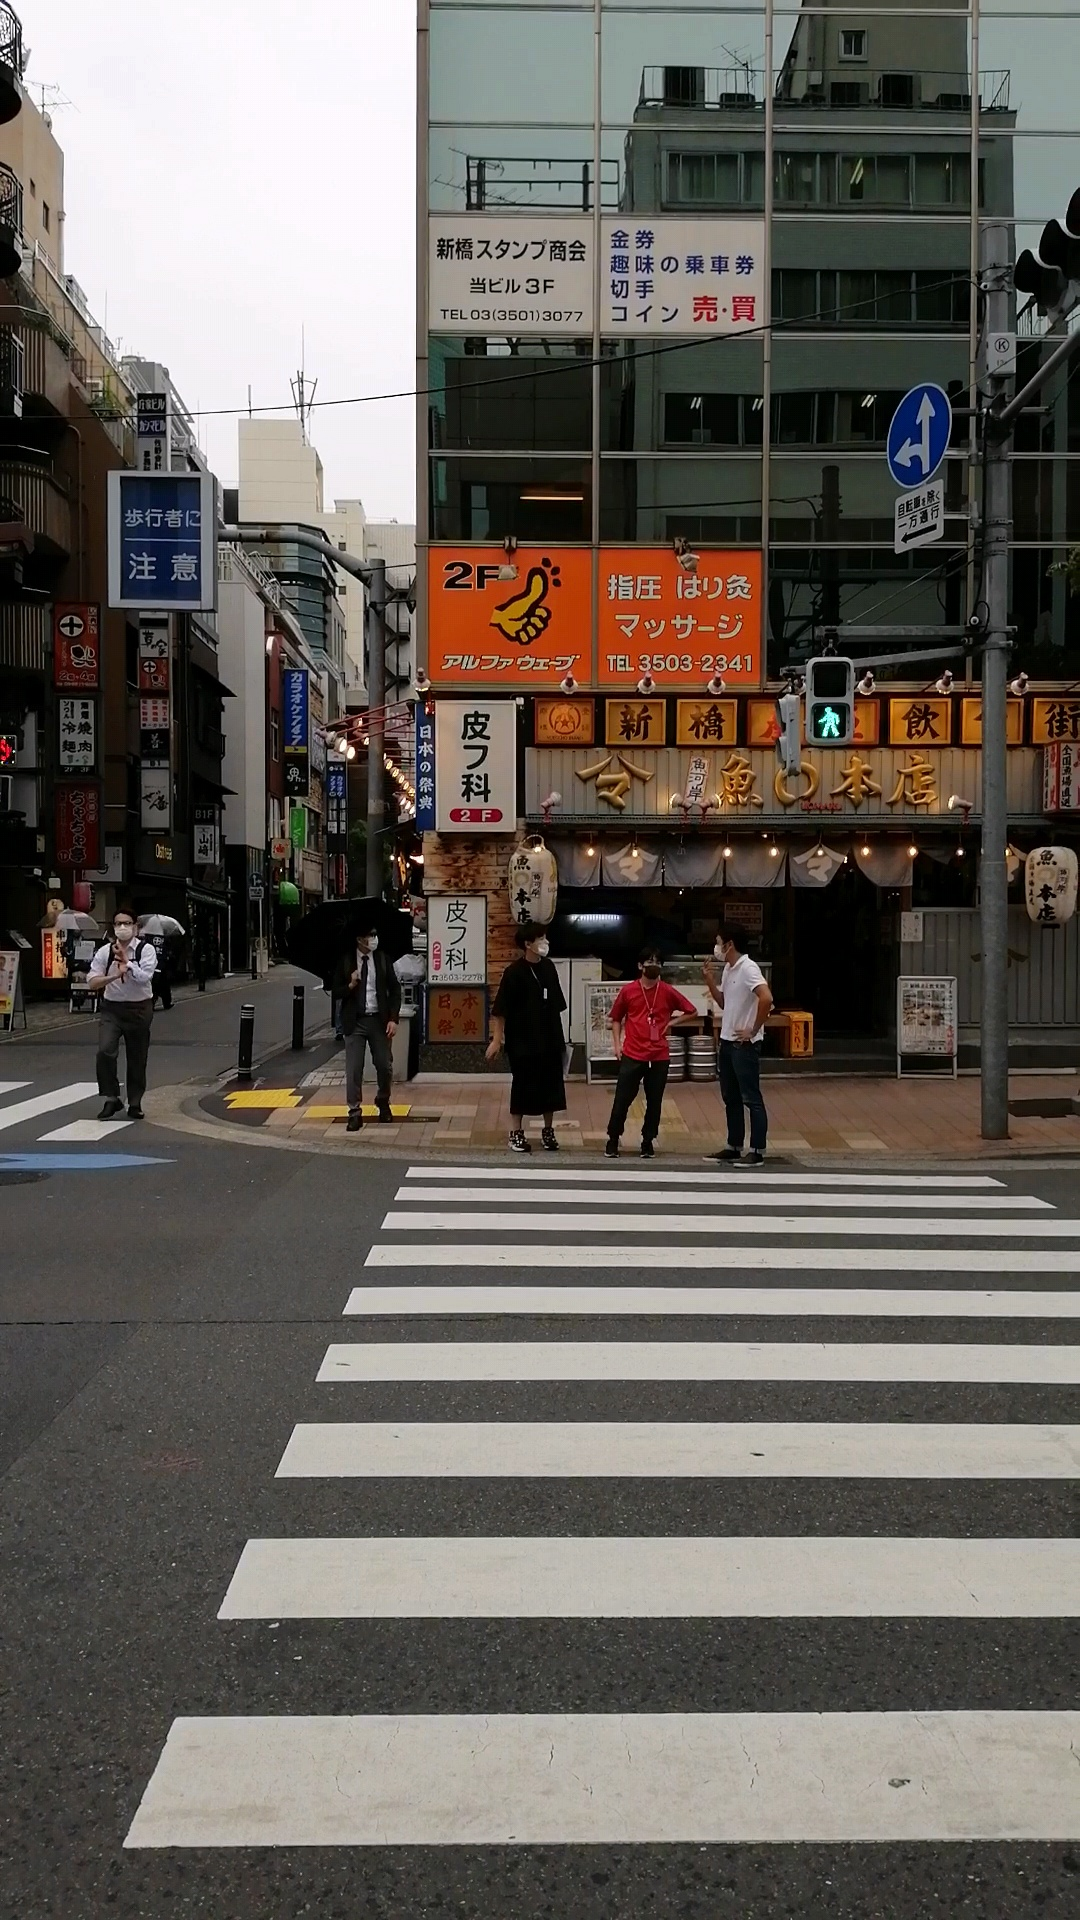green: (806, 651, 852, 746)
